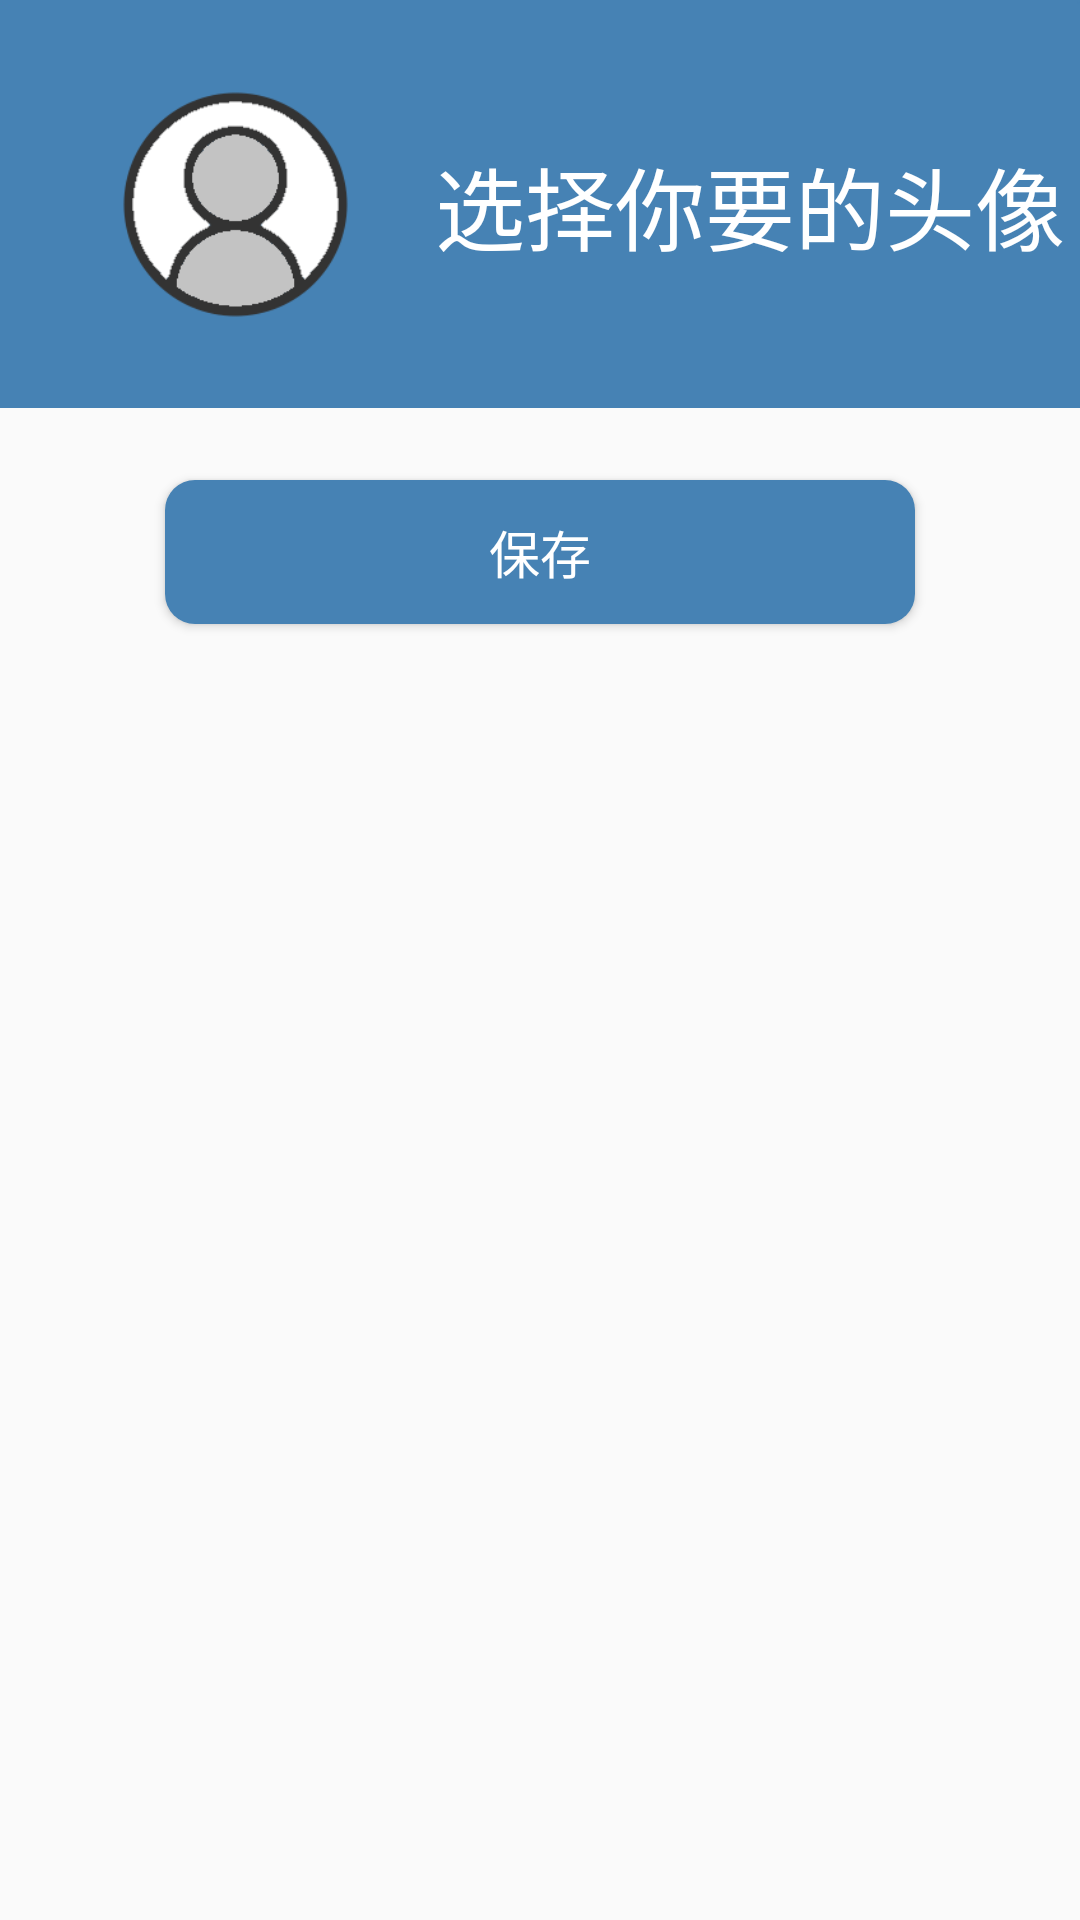

Locate icon controls on the screen. Image size 1080w x 1920h, boxes as (x1, y1, x2, y2).
guanyanren: (123, 92, 348, 317)
